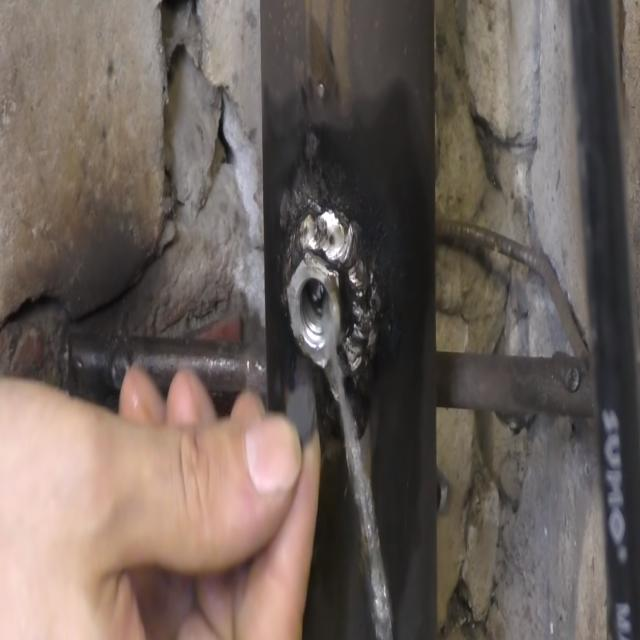leak: (320, 298, 392, 638)
